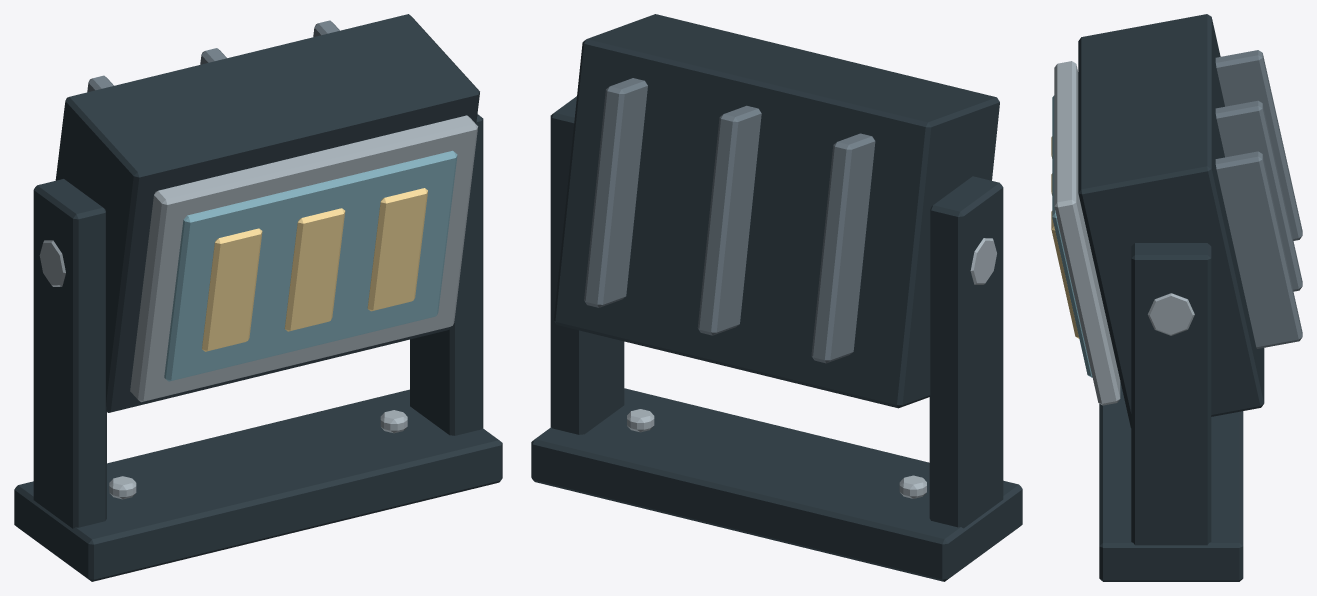
File: b18_yoke_mounted_rectangular_floodlight.glb
3 views of the same model, side by side, from view 1: azimuth 30°, elevation 25°; view 2: azimuth 150°, elevation 25°; view 3: azimuth 270°, elevation 25° (orthographic). The views are drawn at different scales.
Parts seen in each view (by area): view 1: b18_yoke_mounted_rectangular_floodlight; view 2: b18_yoke_mounted_rectangular_floodlight; view 3: b18_yoke_mounted_rectangular_floodlight.
Part boxes in pixels (<box>): b18_yoke_mounted_rectangular_floodlight: <box>14,14,502,581</box>; b18_yoke_mounted_rectangular_floodlight: <box>531,14,1022,581</box>; b18_yoke_mounted_rectangular_floodlight: <box>1051,14,1302,581</box>.
Size of the model in its own units: 0.55 by 0.5526 by 0.3139.
